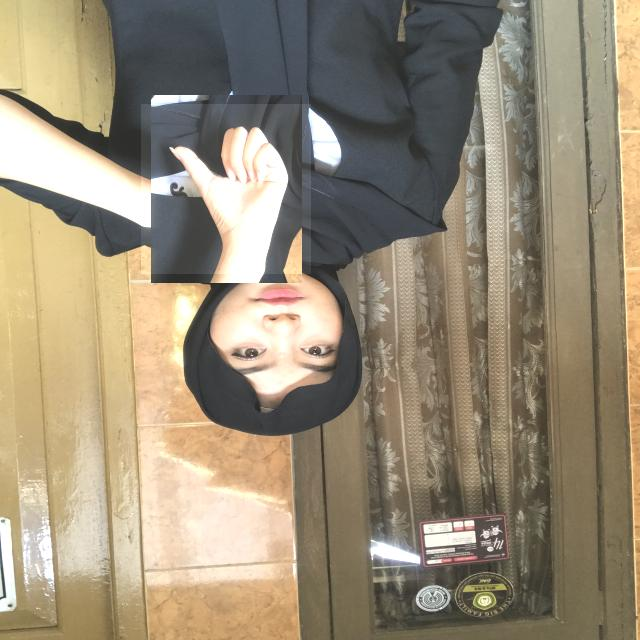sedih: (141, 104, 311, 274)
